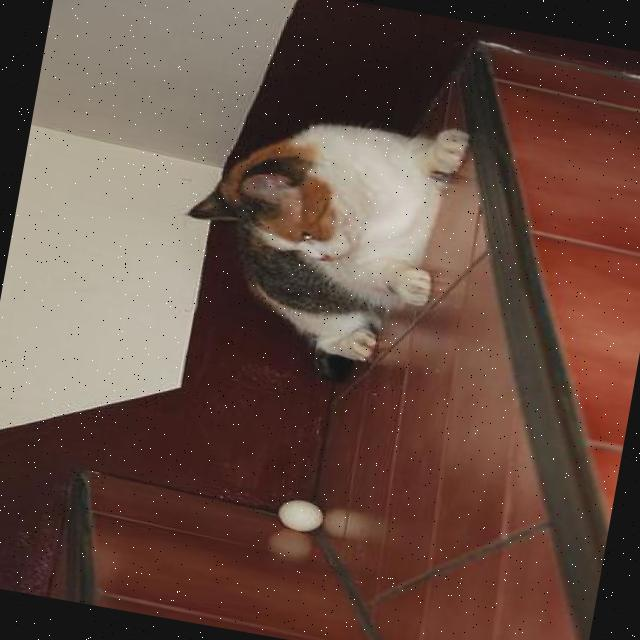ping-pong-ball: (272, 494, 326, 536)
